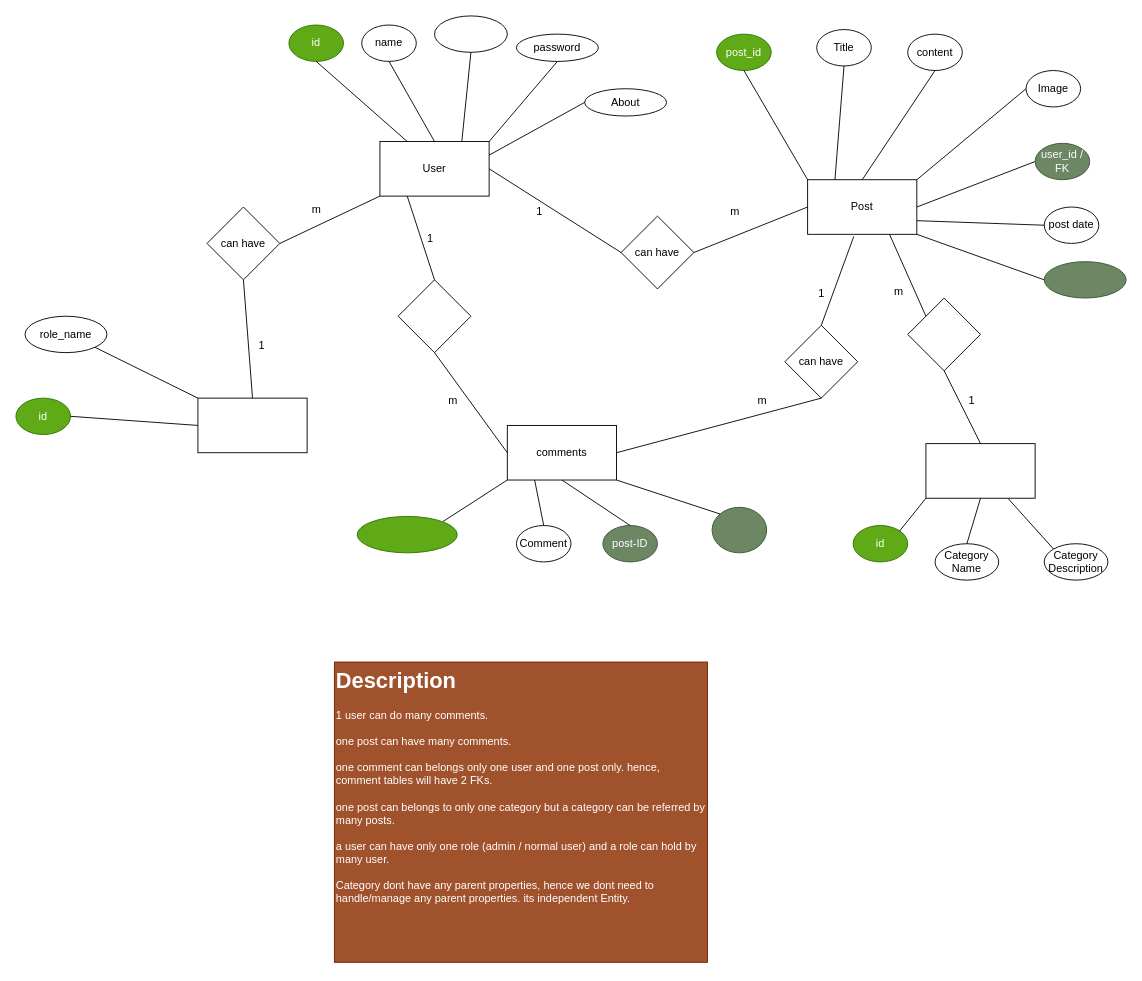
Some shapes in this 1142 by 981 pixel diagram are drawn without their labels. The centre of each missing label's shape, as x and y in pixels:
belongs to: point 944,334
can do: point 434,316
category: point 980,470
Category_Id: point 1084,279
comment_id / PK: point 406,534
email / Username: point 470,33
user_ID: point 739,529
User_Role: point 252,425
